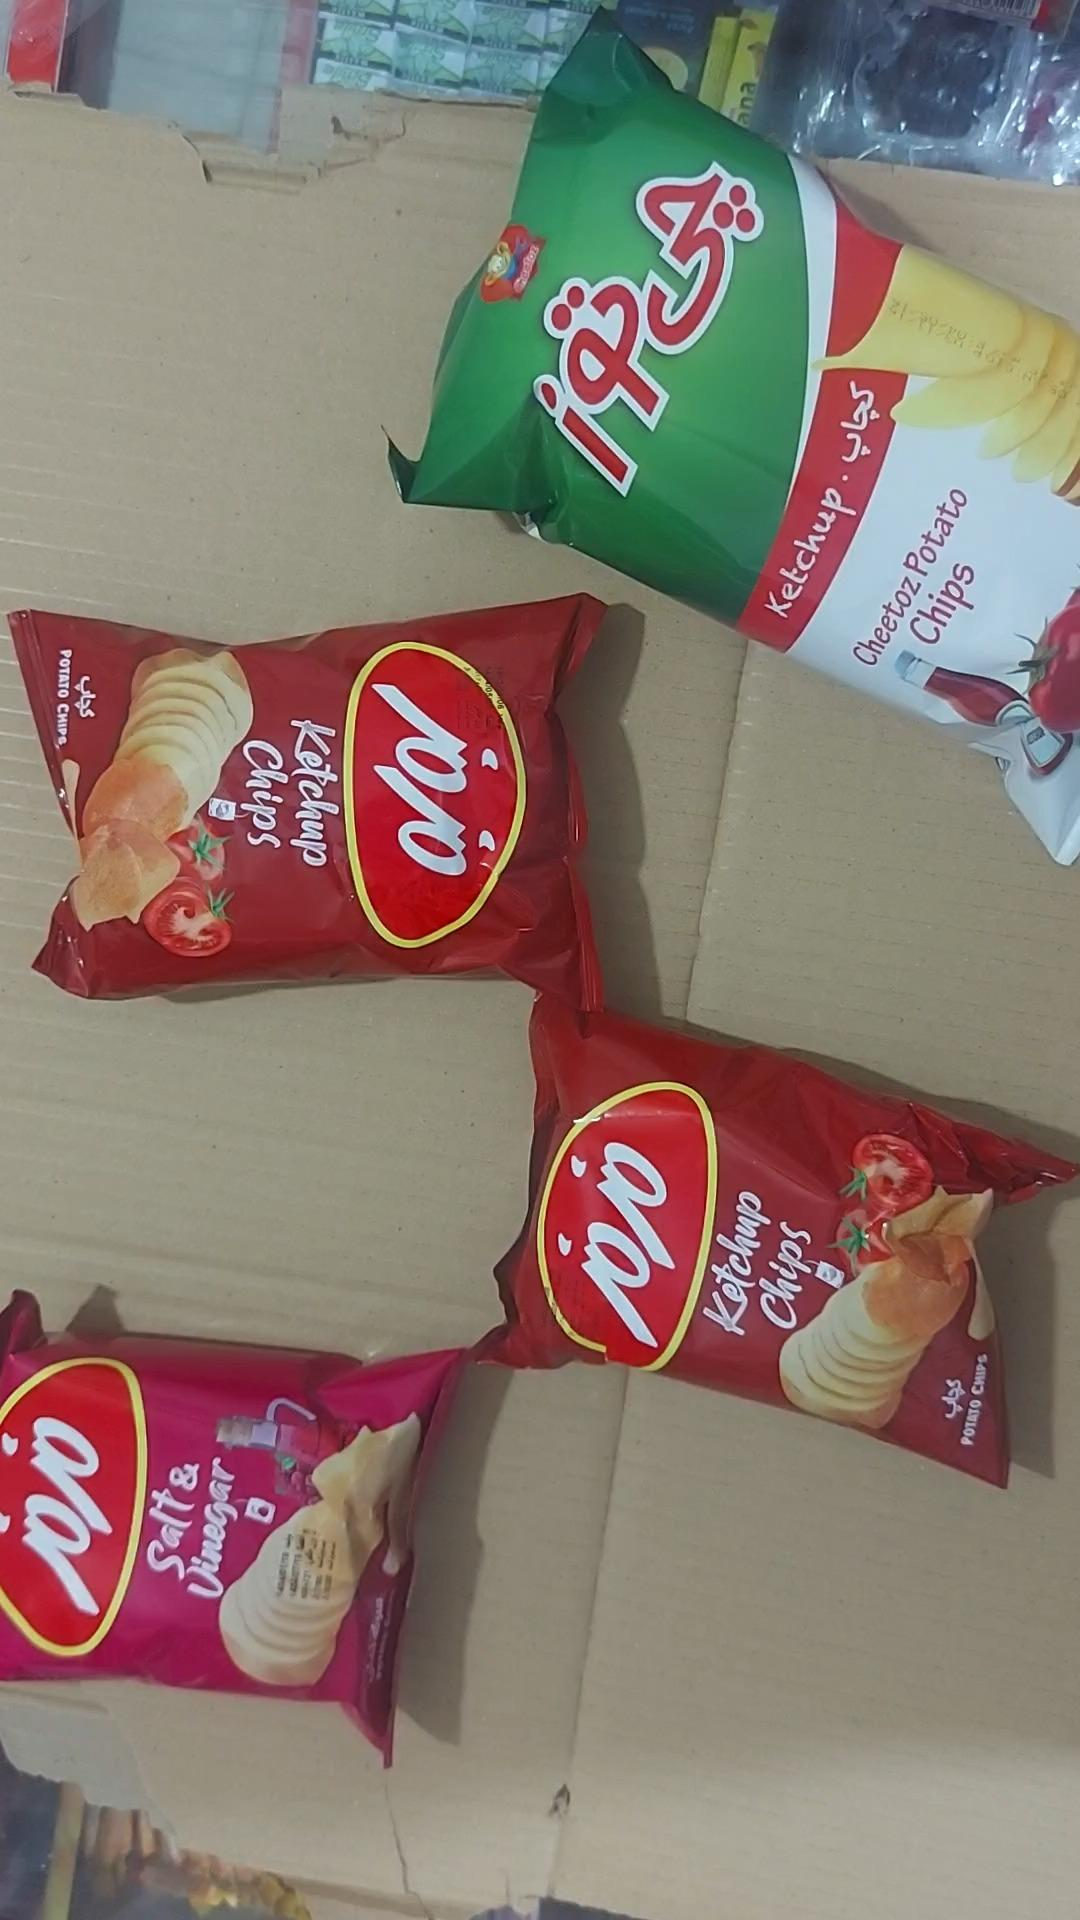Cheetoz ketchup chips: (384, 11, 1079, 872)
Maz Maz ketchup chips: (465, 998, 1079, 1490), (7, 593, 608, 1011)
Maz Maz vinegar chips: (0, 1291, 468, 1768)
